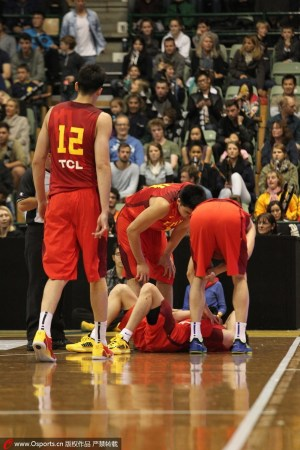10+: (1, 1, 298, 370)
down: (59, 281, 248, 368)
